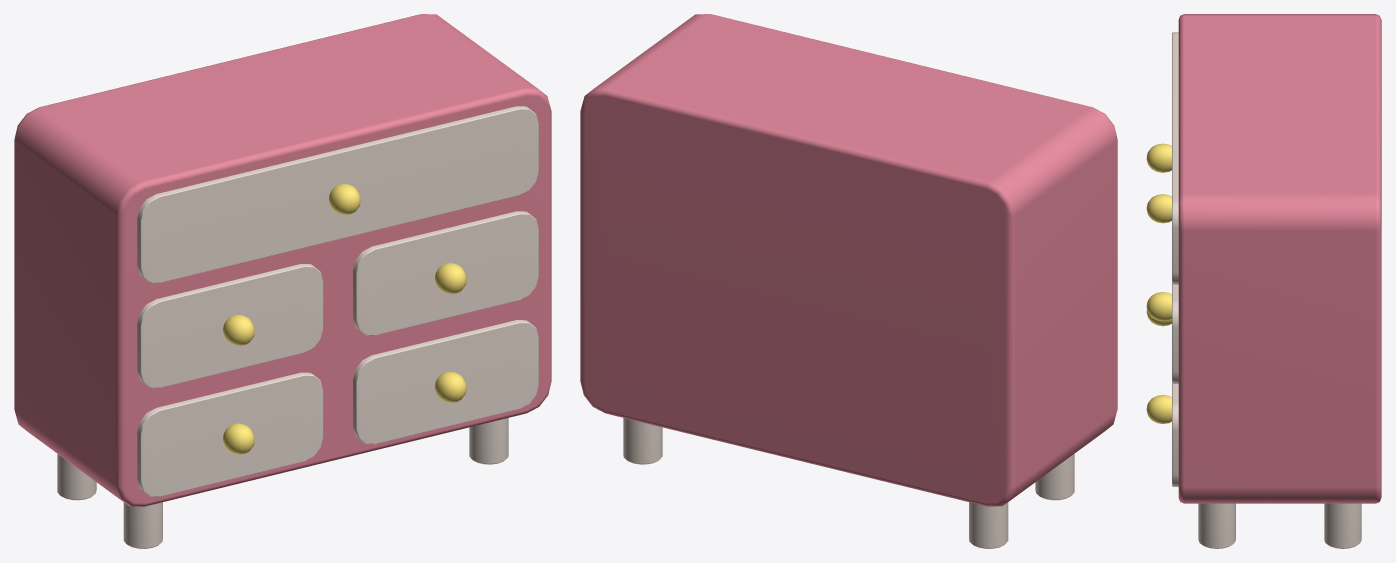
Rendered from cabinet1.glb.
The picture shows the model from 3 angles, left to right: view 1: azimuth 30°, elevation 25°; view 2: azimuth 150°, elevation 25°; view 3: azimuth 270°, elevation 25°; orthographic projection. The views are drawn at different scales.
Parts seen in each view (by area): view 1: SM_Cabinet_2; view 2: SM_Cabinet_2; view 3: SM_Cabinet_2.
Part boxes in pixels (x1,y1,x2,y2): SM_Cabinet_2: (14,14,551,548); SM_Cabinet_2: (580,14,1117,548); SM_Cabinet_2: (1146,14,1381,548).
Size of the model in its own units: 1.59 by 1.31 by 0.7839.
Materials: 1 (1 with a texture image).
